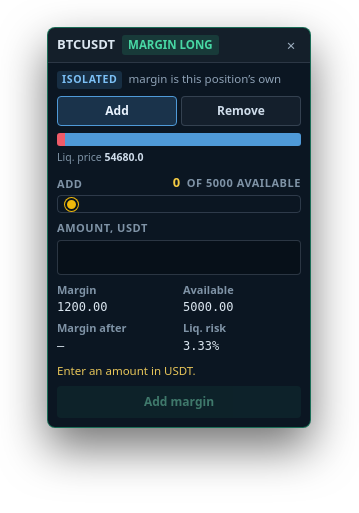
Test: FuturesPositionMarginEditor › refuses to remove more than the position holds
The image size is (359, 513).
Click the button "Remove": click(241, 111) [181,96,301,126]
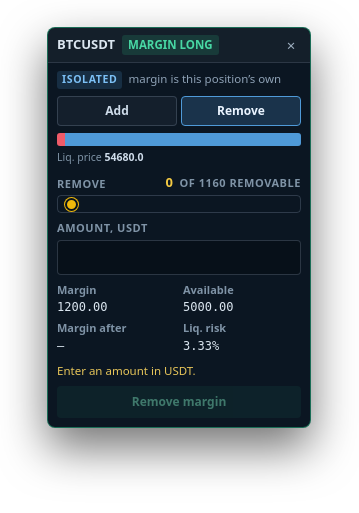
In the field named "Margin amount in USDT": (179, 257) [57,240,301,274], type "1500"
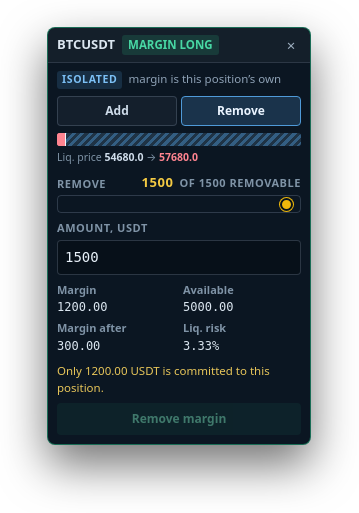
Expected: the button "Remove margin" is disabled, [57,403,301,435]
Expected: the message shows "Only 1200.00 USDT is committed", [57,362,270,395]
